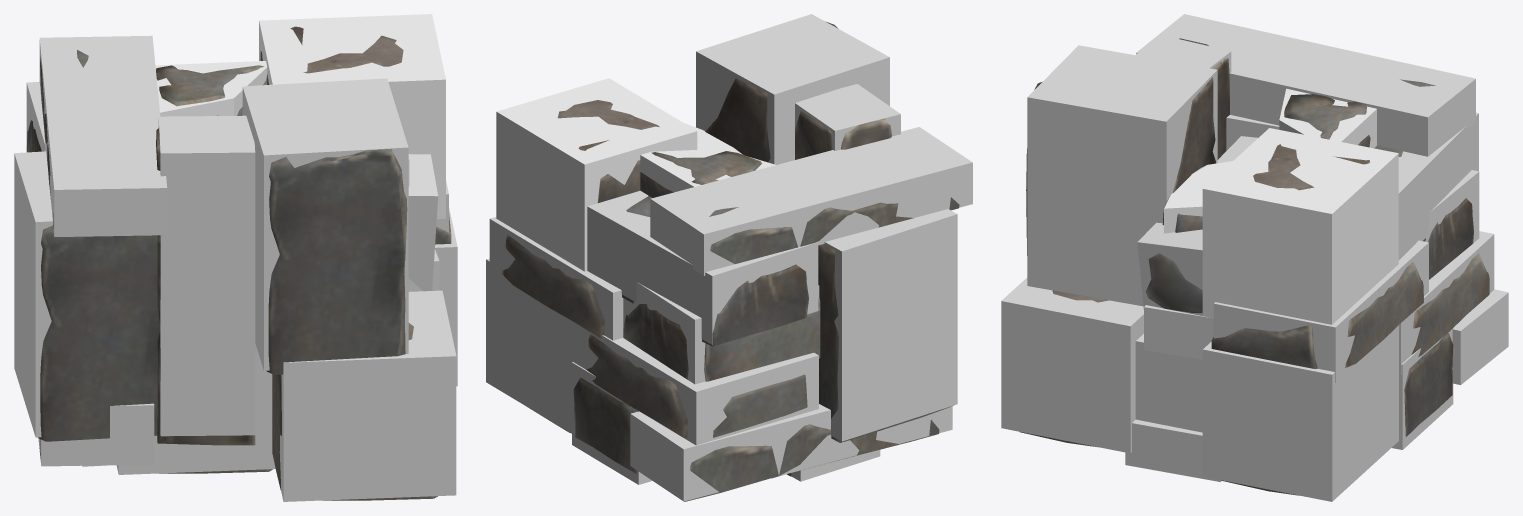
File: Wall_C.fbx
3 renders of one model, left to right at view 1: azimuth 30°, elevation 25°; view 2: azimuth 150°, elevation 25°; view 3: azimuth 270°, elevation 25°, orthographic. The views are drawn at different scales.
Parts seen in each view (by area): view 1: Cube_13, Rock_A14__1_, Cube_6, Cube_10, Rock_A14__2_, Cube_11, Cube, Cube_15, Cube_2, Cube_16, Cube_17, Rock_A26_PZ (+7 smaller); view 2: Cube_15, Cube_10, Cube, Cube_11, Cube_3, Cube_5, Cube_16, Cube_9, Rock_A1__4_, Rock_A2__4_, Rock_A2__6_, Rock_A7__4_ (+14 smaller); view 3: Cube_11, Cube, Cube_5, Cube_6, Cube_10, Rock_A1__3_, Cube_4, Cube_3, Cube_7, Cube_16, Cube_14, Rock_A1__4_ (+16 smaller).
Boxes of the visible parts, x1=… form: Cube_13: x1=158, y1=115, x2=255, y2=436; Rock_A14__1_: x1=266, y1=149, x2=407, y2=374; Cube_6: x1=279, y1=290, x2=456, y2=501; Cube_10: x1=39, y1=35, x2=167, y2=237; Rock_A14__2_: x1=38, y1=225, x2=160, y2=441; Cube_11: x1=242, y1=78, x2=408, y2=370; Cube: x1=259, y1=14, x2=445, y2=219; Cube_15: x1=14, y1=151, x2=52, y2=437; Cube_2: x1=116, y1=344, x2=275, y2=474; Cube_16: x1=38, y1=403, x2=154, y2=466; Cube_17: x1=408, y1=154, x2=438, y2=291; Rock_A26_PZ: x1=155, y1=61, x2=267, y2=116; Cube_15: x1=823, y1=209, x2=957, y2=441; Cube_10: x1=650, y1=127, x2=972, y2=275; Cube: x1=496, y1=78, x2=697, y2=271; Cube_11: x1=696, y1=14, x2=889, y2=164; Cube_3: x1=587, y1=190, x2=818, y2=344; Cube_5: x1=486, y1=258, x2=572, y2=433; Cube_16: x1=630, y1=404, x2=952, y2=501; Cube_9: x1=572, y1=321, x2=818, y2=445; Rock_A1__4_: x1=586, y1=334, x2=807, y2=437; Rock_A2__4_: x1=623, y1=298, x2=820, y2=381; Rock_A2__6_: x1=622, y1=195, x2=808, y2=346; Rock_A7__4_: x1=684, y1=420, x2=939, y2=501; Cube_11: x1=1027, y1=45, x2=1217, y2=306; Cube: x1=1202, y1=128, x2=1398, y2=324; Cube_5: x1=1202, y1=325, x2=1398, y2=501; Cube_6: x1=1001, y1=277, x2=1143, y2=453; Cube_10: x1=1136, y1=14, x2=1475, y2=156; Rock_A1__3_: x1=1211, y1=262, x2=1423, y2=368; Cube_4: x1=1213, y1=240, x2=1428, y2=382; Cube_3: x1=1398, y1=112, x2=1478, y2=260; Cube_7: x1=1135, y1=334, x2=1202, y2=432; Cube_16: x1=1452, y1=289, x2=1508, y2=385; Cube_14: x1=1125, y1=419, x2=1221, y2=481; Rock_A1__4_: x1=1411, y1=253, x2=1489, y2=356.
Size of the model in its own units: 290 by 217 by 296.
Materials: 2 (1 with a texture image).
